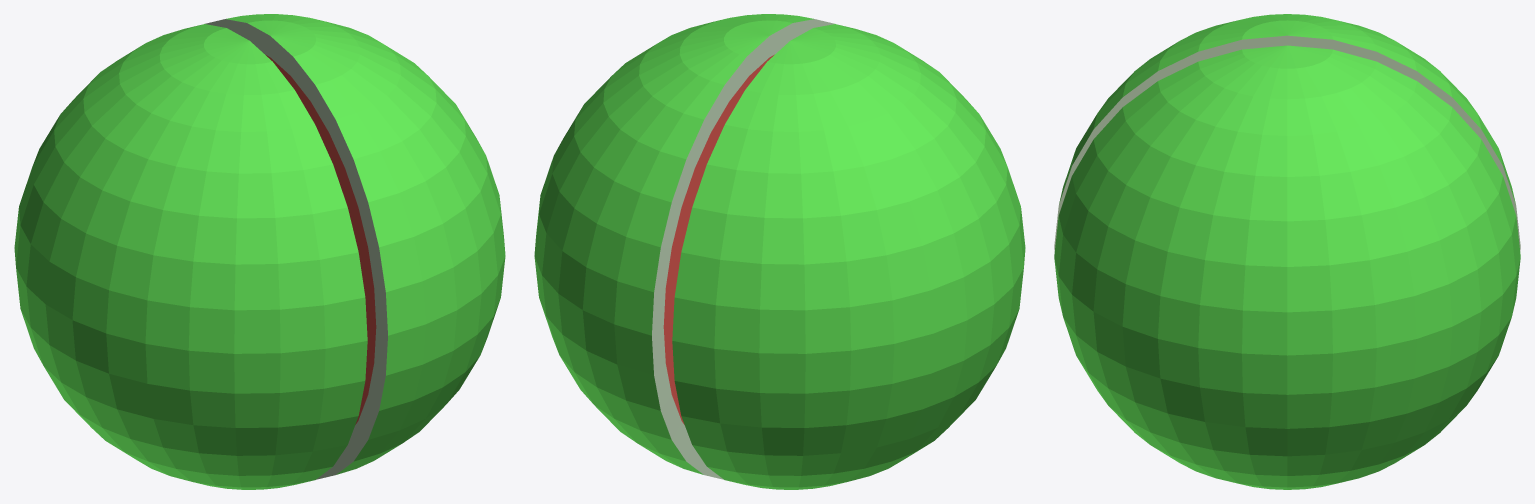
The picture shows the model from 3 angles, left to right: view 1: azimuth 30°, elevation 25°; view 2: azimuth 150°, elevation 25°; view 3: azimuth 270°, elevation 25°; orthographic projection.
Visible parts, largest first — view 1: Watermelon_Cut_L, Watermelon_Cut_R; view 2: Watermelon_Cut_L, Watermelon_Cut_R; view 3: Watermelon_Cut_R, Watermelon_Cut_L.
Boxes of the visible parts, box(x1,y1,x2,y2) form: Watermelon_Cut_L: box(14, 24, 367, 489); Watermelon_Cut_R: box(205, 14, 505, 479); Watermelon_Cut_L: box(672, 24, 1025, 489); Watermelon_Cut_R: box(534, 14, 834, 479); Watermelon_Cut_R: box(1054, 45, 1520, 489); Watermelon_Cut_L: box(1054, 14, 1520, 250).
Size of the model in its own units: 210 by 200 by 200.
